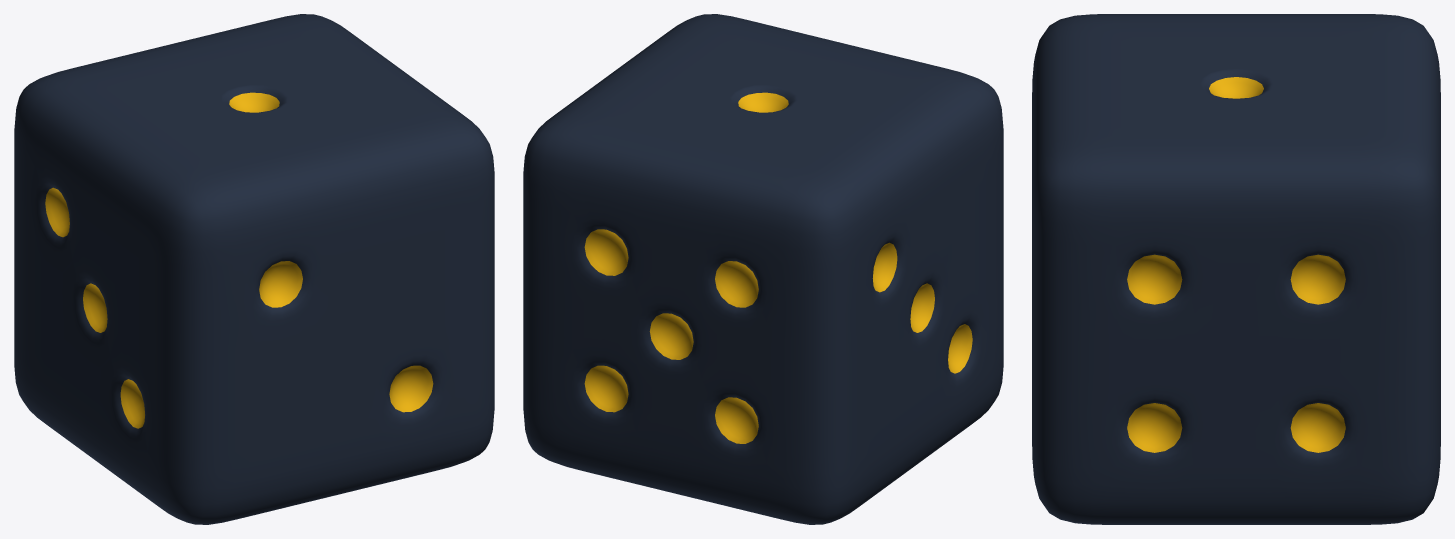
Rendered from Dice.fbx.
The picture shows the model from 3 angles, left to right: view 1: azimuth 30°, elevation 25°; view 2: azimuth 150°, elevation 25°; view 3: azimuth 270°, elevation 25°; orthographic projection. The views are drawn at different scales.
Parts seen in each view (by area): view 1: Cube; view 2: Cube; view 3: Cube.
Boxes of the visible parts, bbox=[...] form: Cube: bbox=[14, 14, 494, 524]; Cube: bbox=[523, 14, 1003, 524]; Cube: bbox=[1032, 14, 1440, 524].
Bounding box in the file's own units: 200 × 200 × 200.
